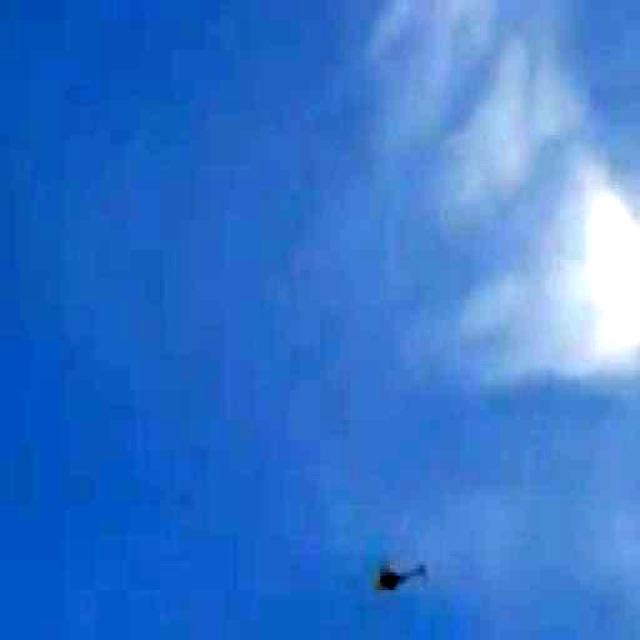drone: (375, 552, 434, 596)
